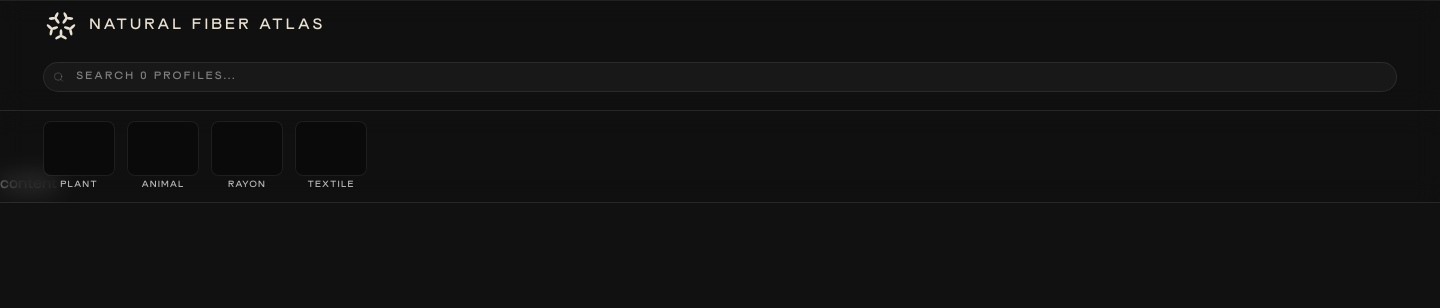
Test: TopNav search sync › shows tap-first subcategory toggle on mobile after selecting a parent node
This screenshot has width=1440, height=308.
Click the button "Plant Plant" at [79, 156], box [43, 121, 115, 191]
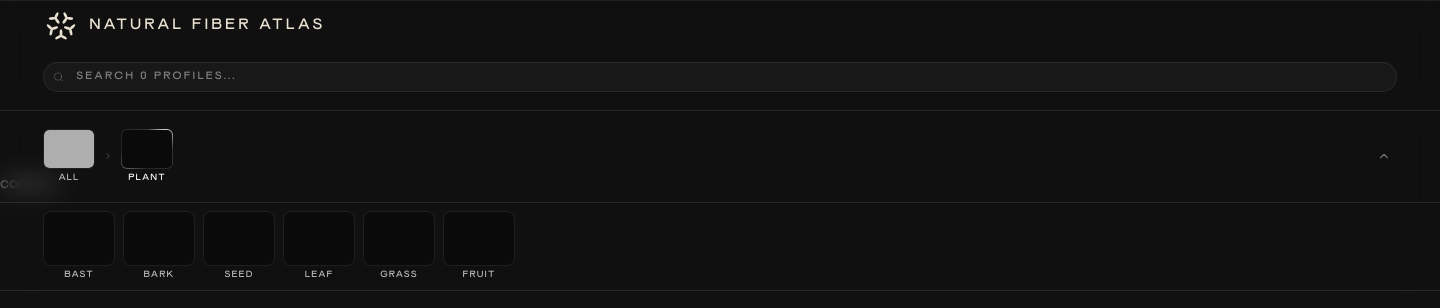
Now the button named "hide subcategories" is shown, box [1371, 143, 1397, 169]
